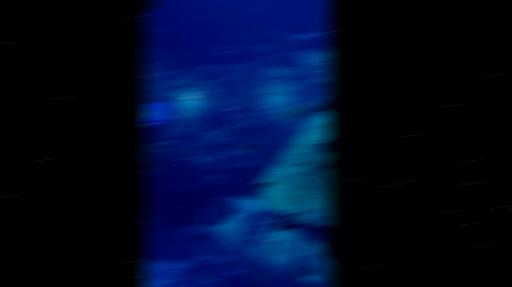Fish: (293, 223, 330, 261), (275, 32, 324, 48), (144, 141, 181, 156), (274, 212, 301, 231), (320, 226, 331, 261), (144, 109, 171, 123), (310, 99, 331, 117), (281, 104, 306, 119), (252, 179, 273, 192), (185, 225, 210, 234), (144, 0, 159, 12), (144, 160, 161, 170), (303, 264, 316, 276), (320, 139, 331, 153), (241, 142, 258, 151), (253, 45, 274, 52), (257, 273, 268, 285), (224, 125, 237, 135), (170, 149, 187, 155), (154, 28, 167, 33), (243, 102, 252, 109), (144, 219, 155, 224), (219, 45, 230, 50), (322, 163, 331, 169), (226, 50, 235, 55), (231, 34, 240, 39), (240, 44, 251, 48), (227, 163, 235, 168), (161, 72, 173, 75), (227, 179, 234, 184), (230, 145, 236, 148)
